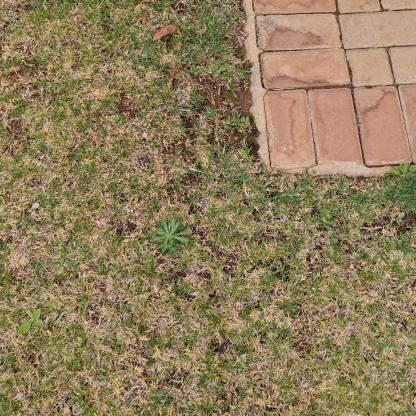Weeds: (151, 218, 193, 254), (18, 308, 44, 336), (390, 162, 415, 184), (208, 61, 226, 77), (189, 64, 201, 76), (242, 118, 251, 128)
